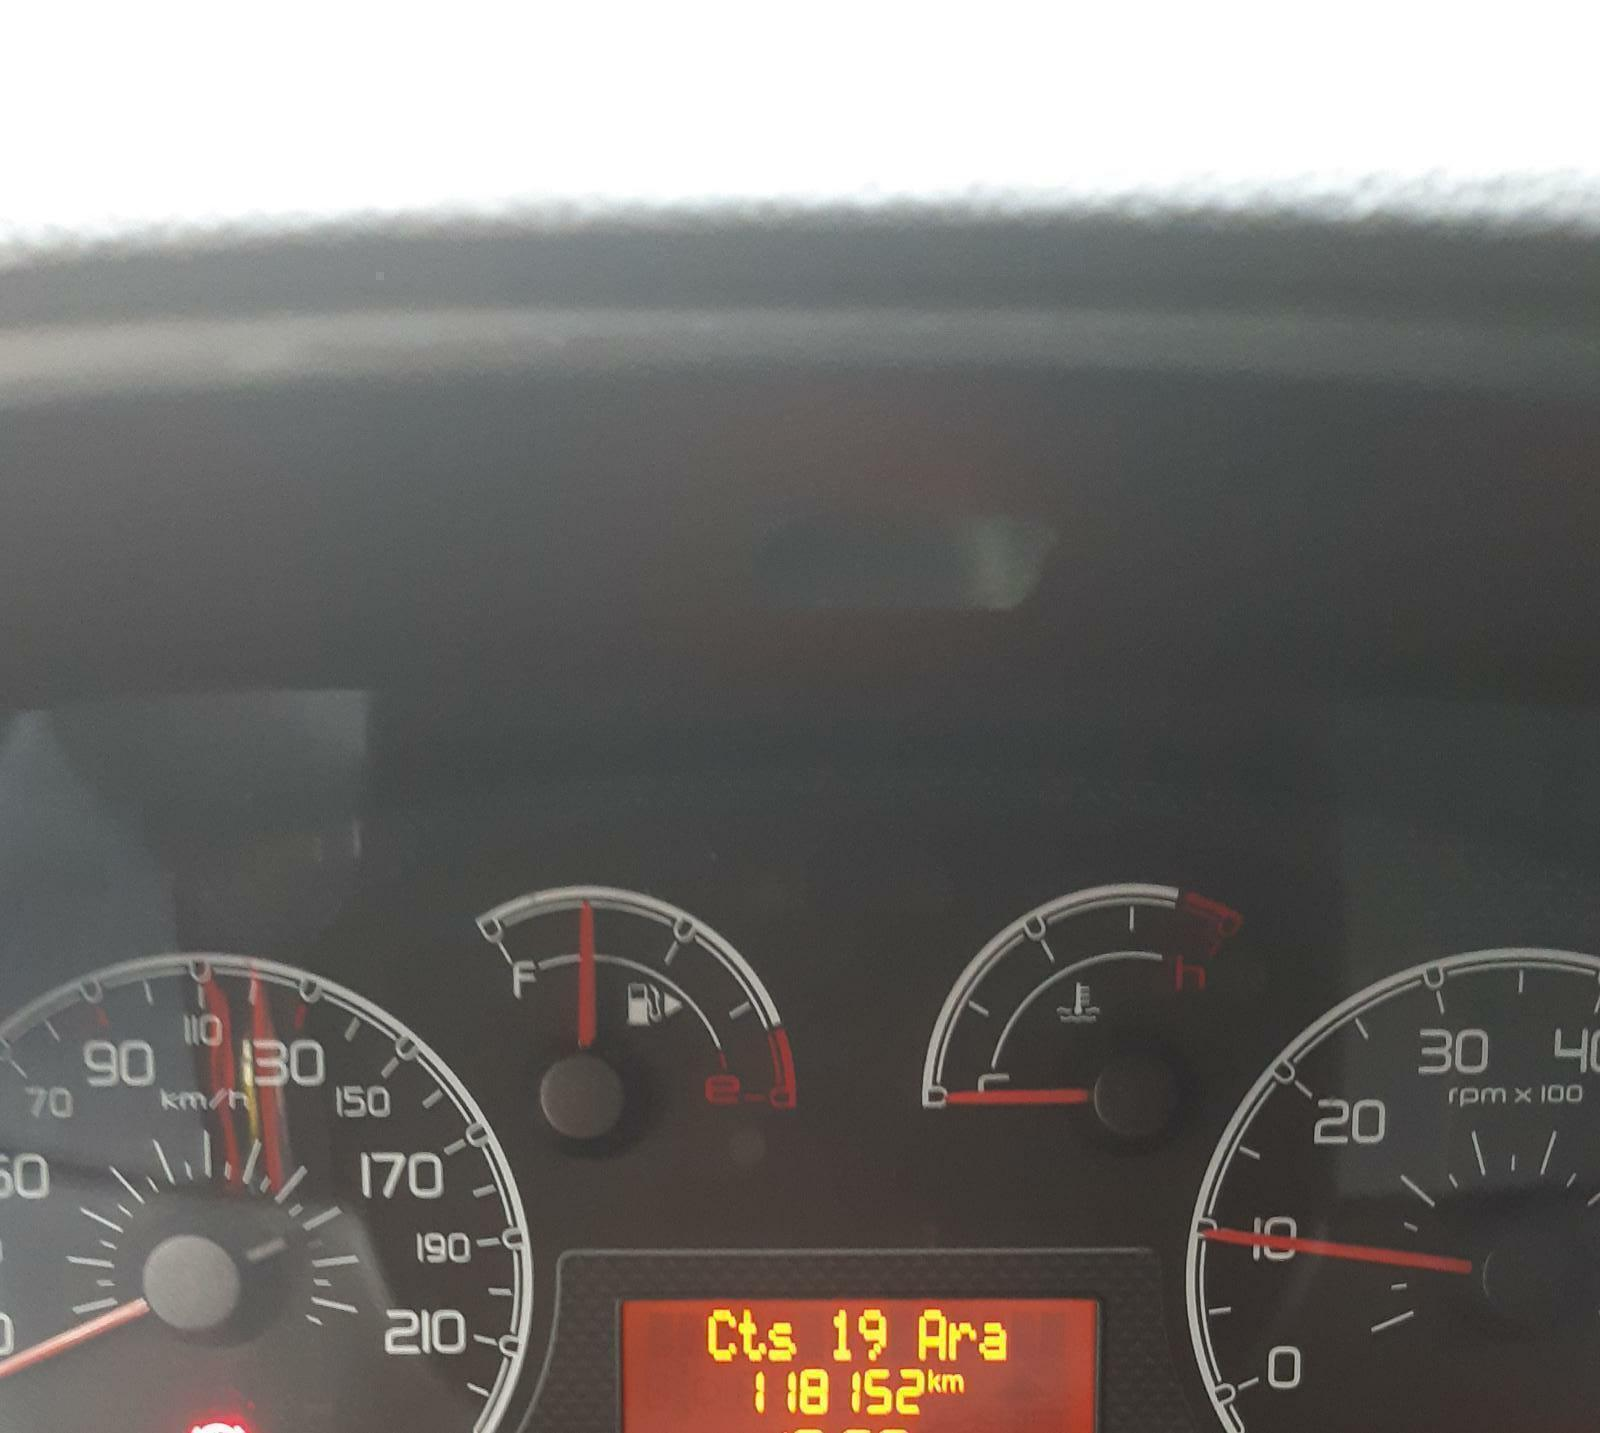1: (830, 1306, 853, 1362), (752, 1368, 768, 1415), (784, 1367, 798, 1416), (849, 1367, 862, 1416)
2: (896, 1367, 927, 1416)
5: (864, 1367, 893, 1416)
8: (799, 1367, 830, 1416)
9: (856, 1306, 888, 1361)
X: (707, 1306, 737, 1364), (915, 1304, 947, 1360), (738, 1309, 766, 1365), (768, 1318, 798, 1362), (978, 1318, 1008, 1362), (949, 1318, 976, 1361), (942, 1371, 967, 1394), (927, 1367, 940, 1396)
odometer: (608, 1282, 1105, 1433)
